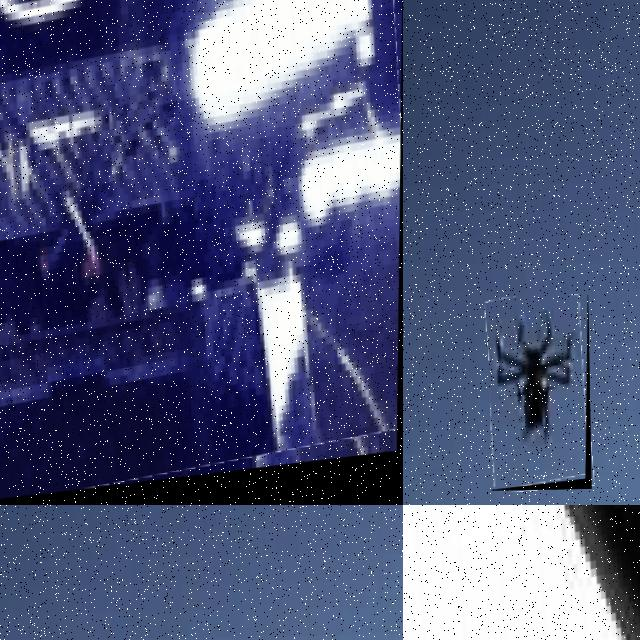drone: (0, 0, 403, 505), (403, 505, 640, 640), (488, 295, 591, 491)
